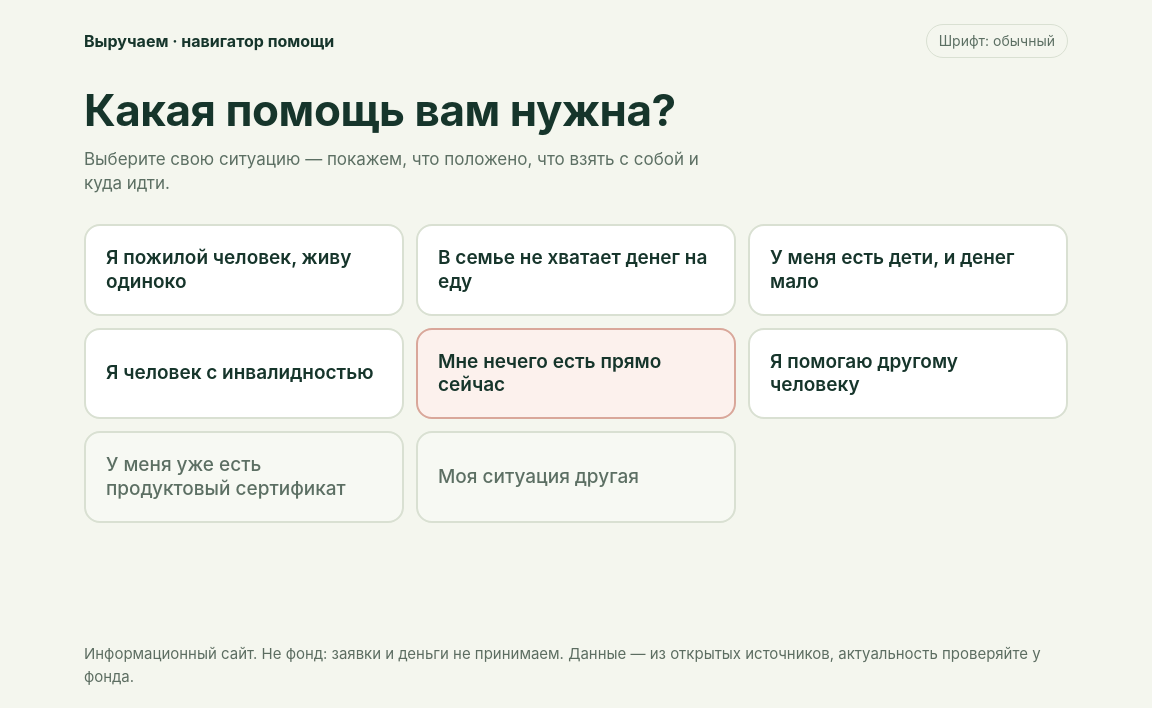
Test: приложение › для срочной ситуации сразу показывает маршруты «сегодня»
Click the button "Мне нечего есть прямо сейчас". click: click(576, 373)
box: left=416, top=328, right=736, bottom=419
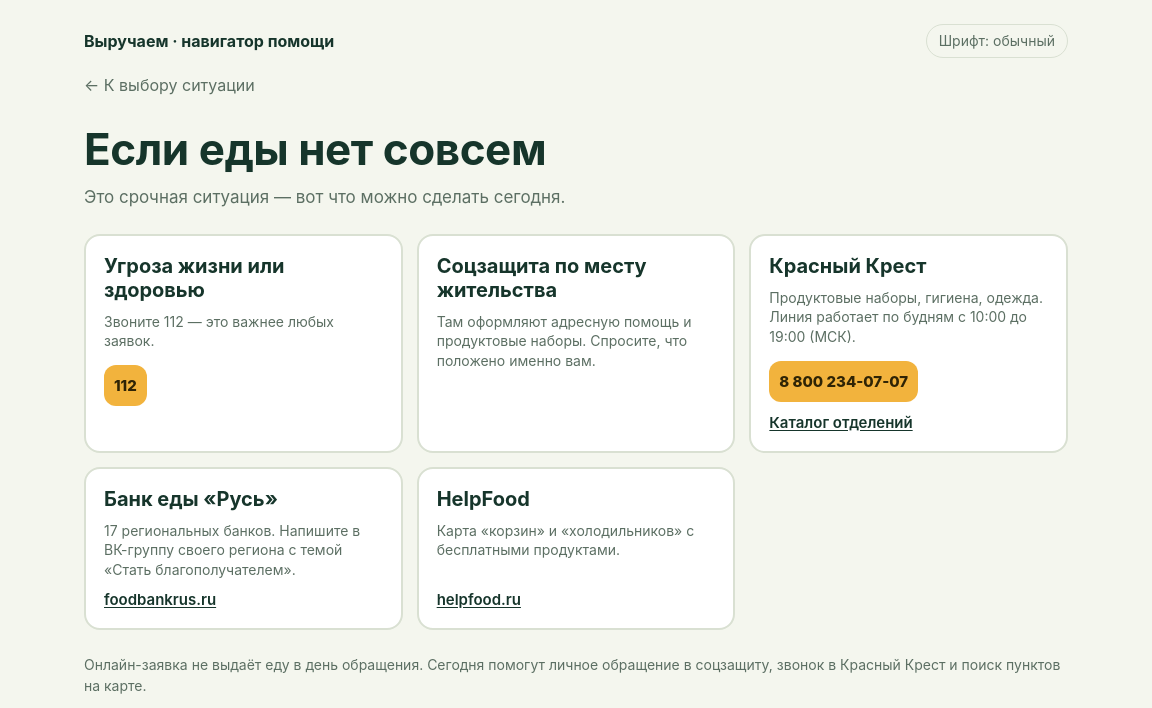
Now the heading "Если еды нет совсем" is shown, box left=84, top=122, right=546, bottom=176
Now the link "112" is shown, box left=104, top=365, right=147, bottom=406
Now the text "не выдаёт еду в день обращения" is shown, box left=84, top=656, right=1060, bottom=694
